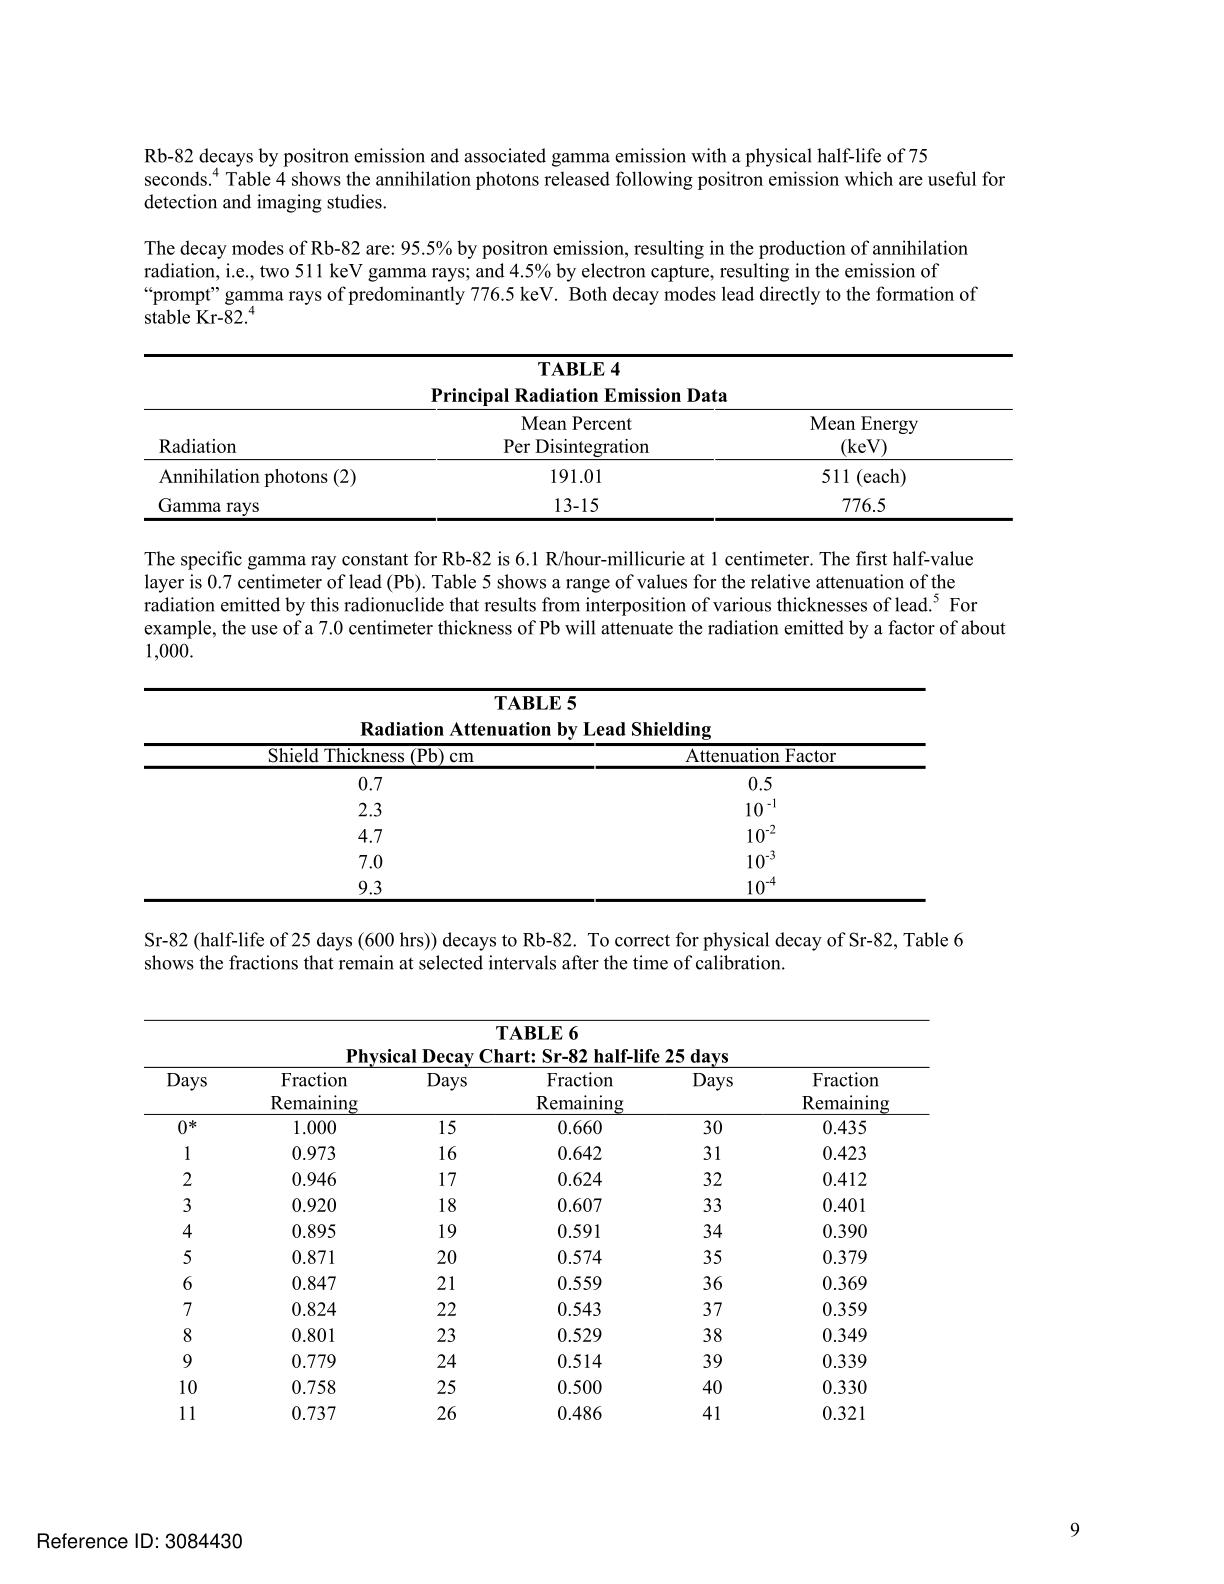partial_lined_merged_cells: (140, 1013, 942, 1434), (140, 683, 933, 908), (135, 348, 1021, 525)
